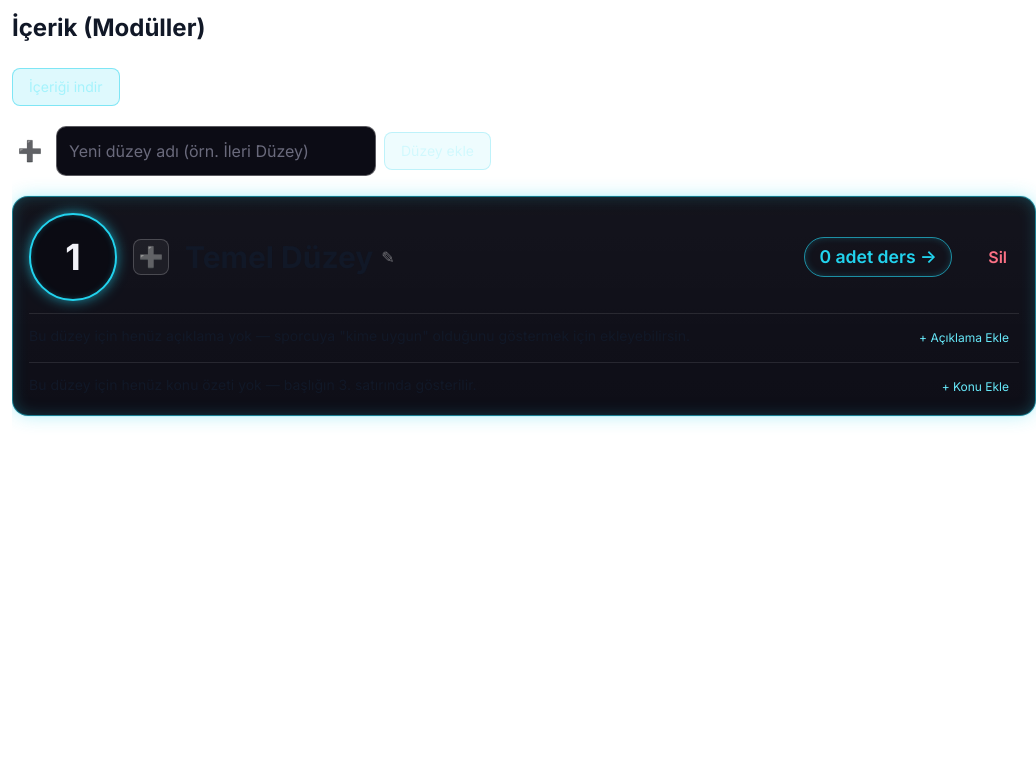
Scenario: Admin içerik sayfası — düzey konu özeti (madde 2026-09-07 (2)) › öneri butonuna basınca textarea Zafer'in verdiği metinle dolar
Click the button "+ Konu Ekle" at (975, 387), box x1=932 y1=375 x2=1019 y2=399
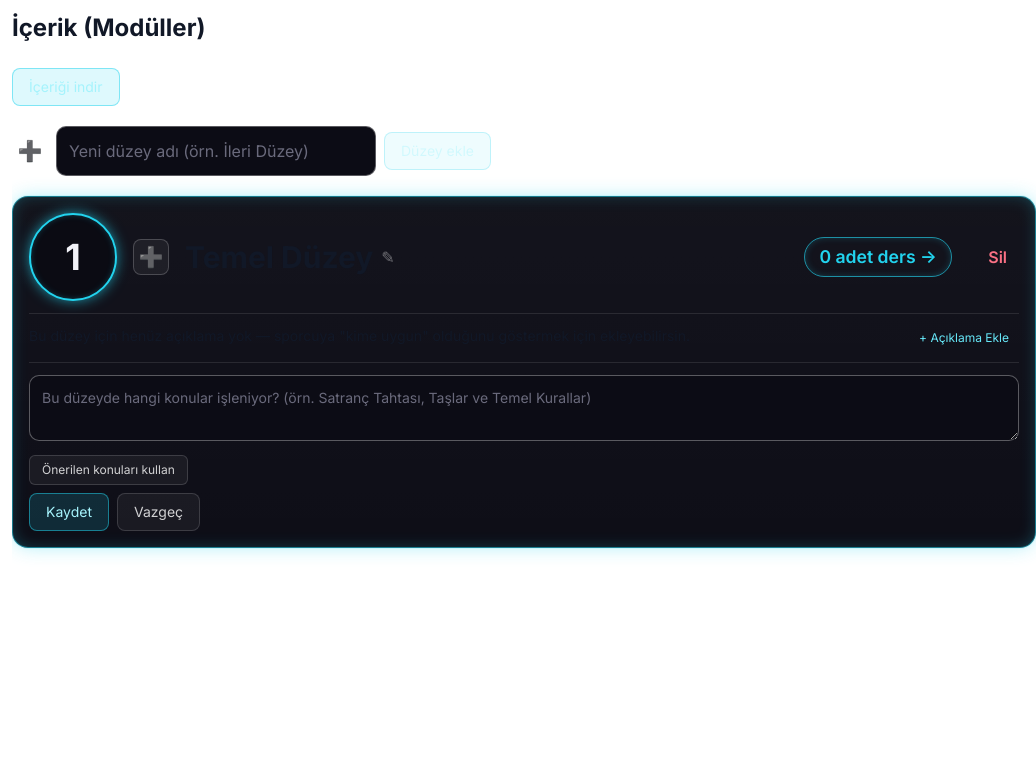
Click the button "Önerilen konuları kullan" at (108, 470), box x1=29 y1=455 x2=188 y2=485
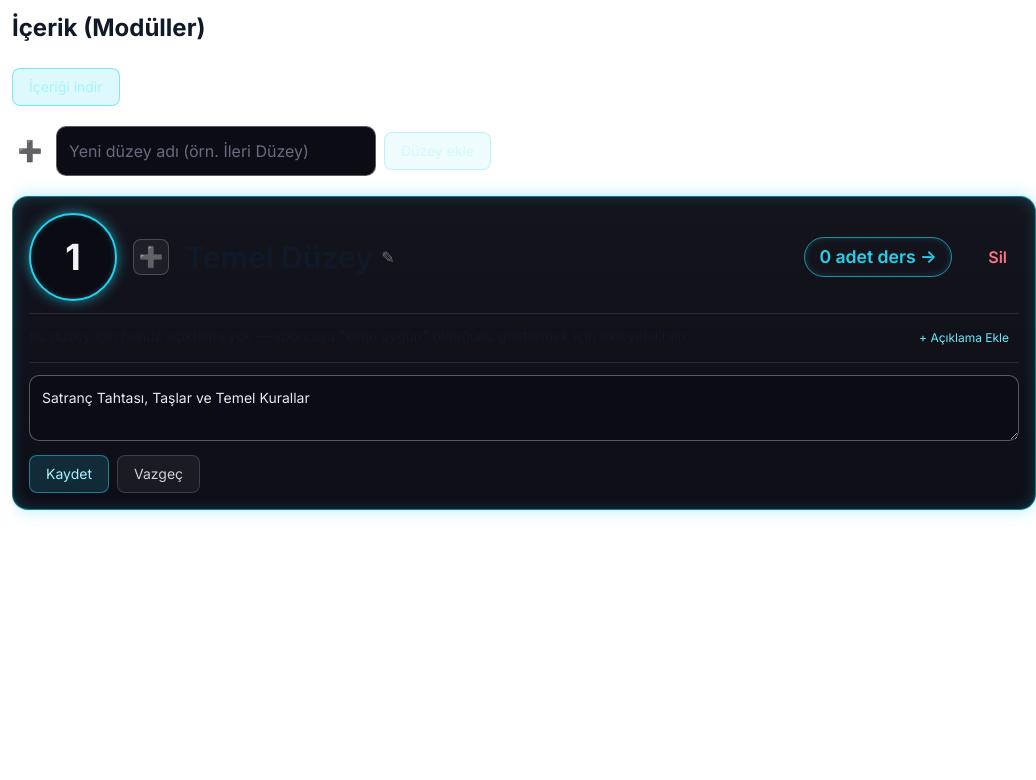
Expected: the text box with placeholder "hangi konular işleniyor" holds "Satranç Tahtası, Taşlar ve Temel Kurallar", x1=29 y1=375 x2=1019 y2=441
